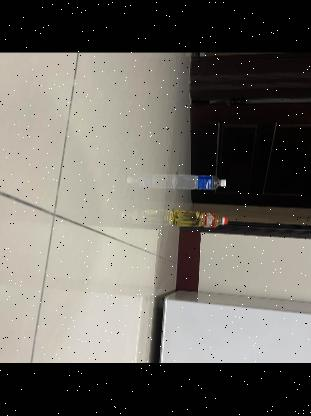Plastic Bottle: (168, 210, 227, 229), (173, 175, 225, 190)
